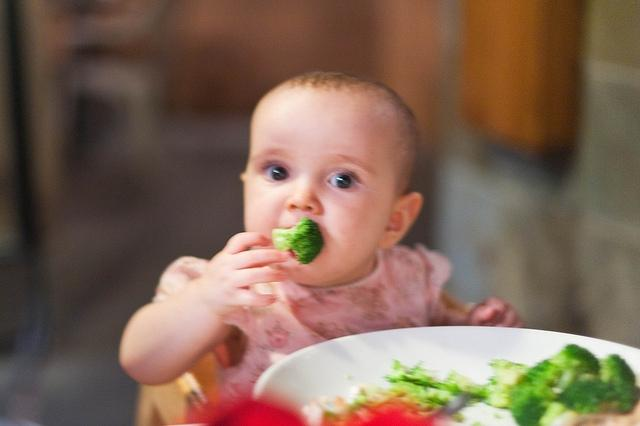broccoli: (596, 354, 639, 414), (555, 373, 617, 414), (272, 218, 324, 264), (551, 345, 599, 393), (508, 381, 558, 426), (398, 373, 438, 388)
